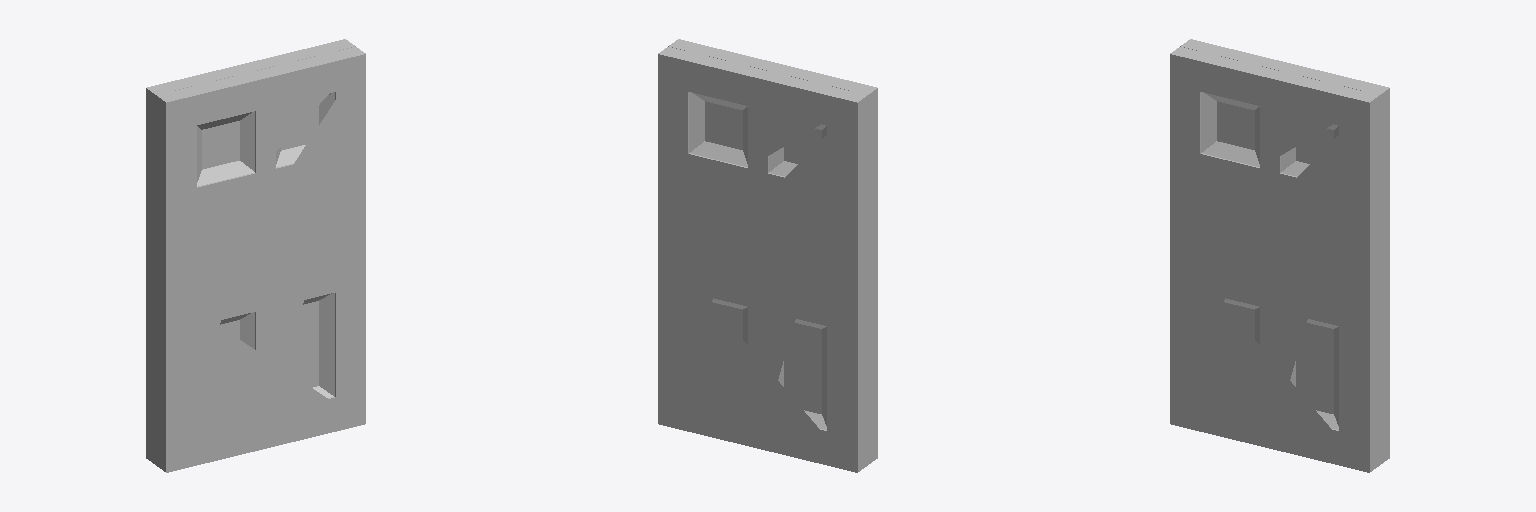
Rendered from door.obj.
3 renders of one model, left to right at view 1: azimuth 30°, elevation 25°; view 2: azimuth 150°, elevation 25°; view 3: azimuth 330°, elevation 25°, orthographic.
Visible parts, largest first — view 1: Cube.001, Cube.002; view 2: Cube.002, Cube.001; view 3: Cube.001, Cube.002.
Boxes of the visible parts, x1,y1,x2,y2 form: Cube.001: [156, 47, 365, 472]; Cube.002: [146, 39, 355, 464]; Cube.002: [658, 47, 867, 472]; Cube.001: [668, 39, 877, 464]; Cube.001: [1170, 47, 1379, 472]; Cube.002: [1180, 39, 1389, 464].
Bounding box in the file's own units: 3.39 × 6 × 0.6.